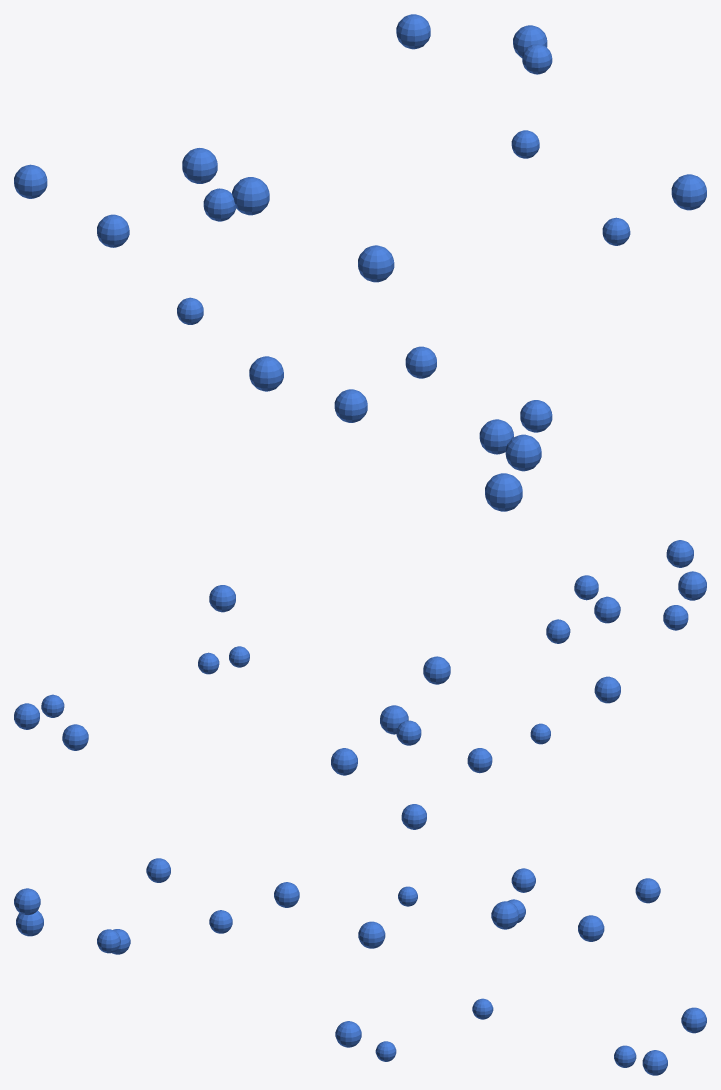
File: CanopyW1_AjisaBlueLight.fbx
The picture shows the model from 3 angles, top to bottom: view 1: azimuth 30°, elevation 25°; view 2: azimuth 150°, elevation 25°; view 3: azimuth 270°, elevation 25°; orthographic projection. The views are drawn at different scales.
Parts seen in each view (by area): view 1: CanopyW0.001; view 2: CanopyW0.001; view 3: CanopyW0.001.
Boxes of the visible parts, x1=… form: CanopyW0.001: x1=14, y1=14, x2=706, y2=511; CanopyW0.001: x1=14, y1=540, x2=706, y2=829; CanopyW0.001: x1=14, y1=858, x2=706, y2=1075.
Size of the model in its own units: 16018 by 2200 by 23955.
